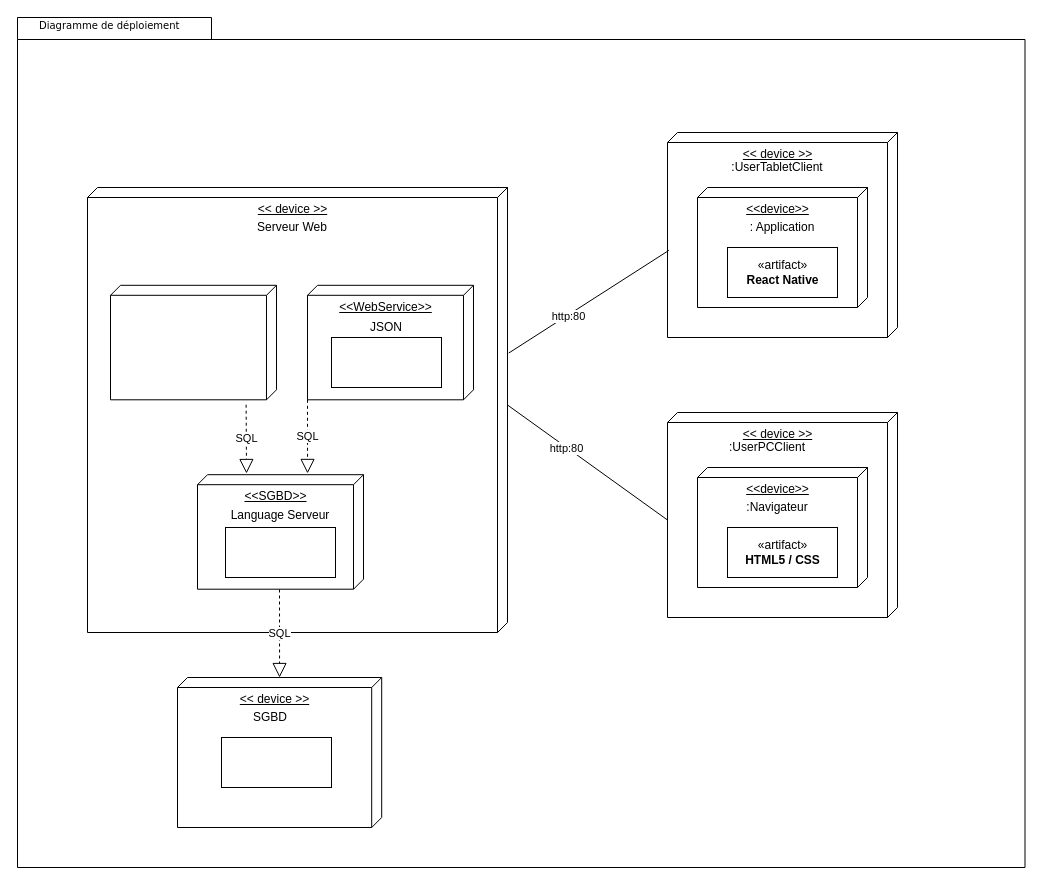
This 1043x885 diagram has some shape labels left out. The shapes that lost their labels are listed below. From the top down, each one's centre as x and y in pixels, then its label:
[193,342]: <<ModuleAdmin>>
[386,362]: «artifact» API REST
[280,552]: «artifact» PHP
[276,762]: «artifact» MY SQL V5
